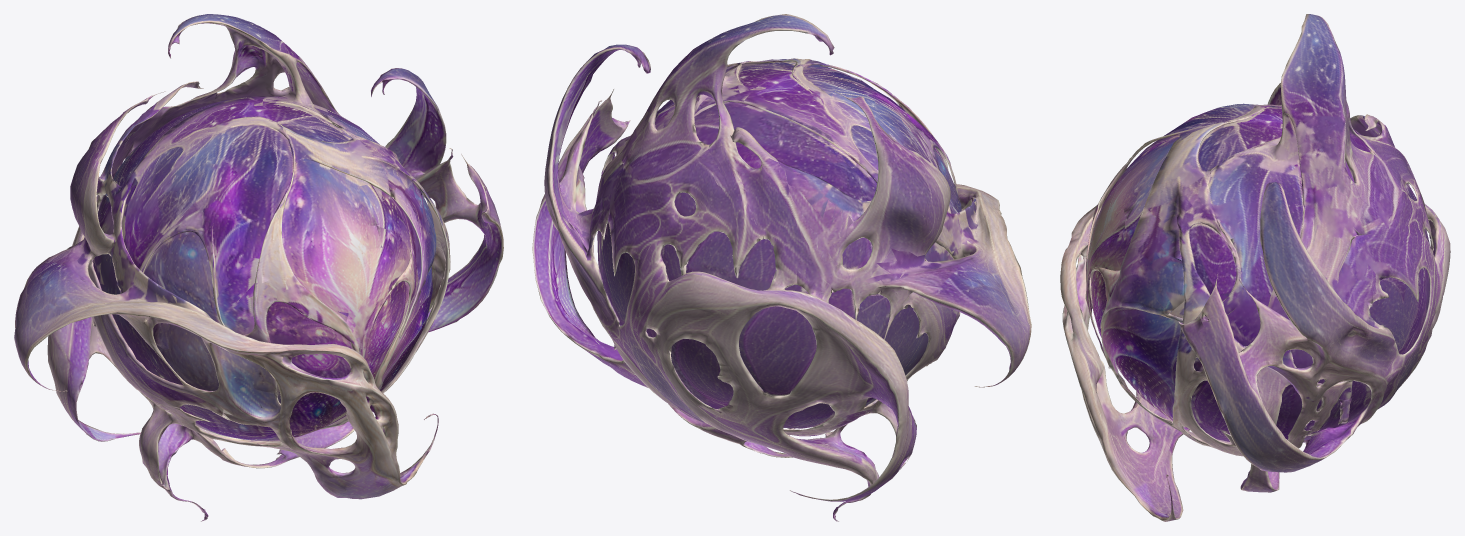
File: Veylora_Seed.fbx
The picture shows the model from 3 angles, left to right: view 1: azimuth 30°, elevation 25°; view 2: azimuth 150°, elevation 25°; view 3: azimuth 270°, elevation 25°; orthographic projection. The views are drawn at different scales.
Parts seen in each view (by area): view 1: Mesh_0; view 2: Mesh_0; view 3: Mesh_0.
Part boxes in pixels (<box>): Mesh_0: <box>14,14,503,521</box>; Mesh_0: <box>532,14,1031,521</box>; Mesh_0: <box>1060,14,1450,521</box>.
Bounding box in the file's own units: 95.41 × 95.17 × 70.36.
1 material, 1 textured.
